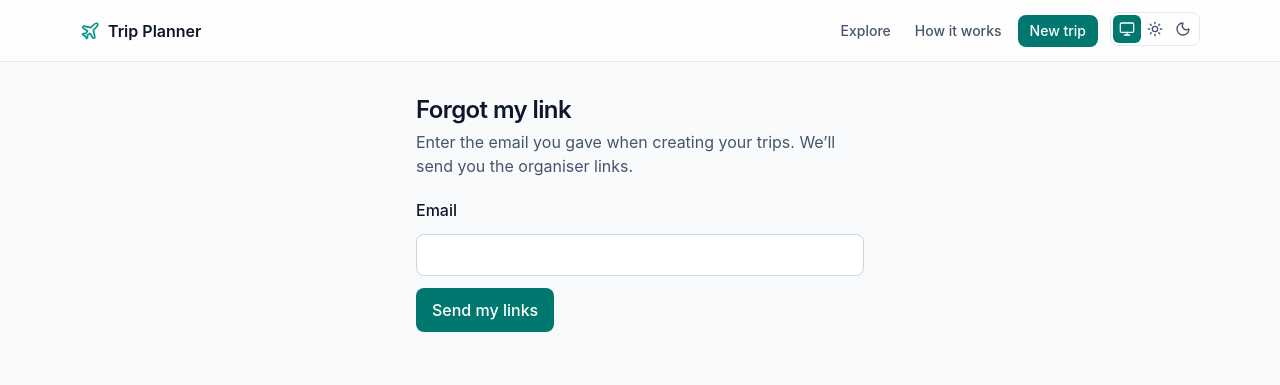
RecoverPage (F10, AC12.4–12.5) › validates the email and reports rate limits
In the field labelled "Email": (640, 255) [416,234,864,276], type "nope"
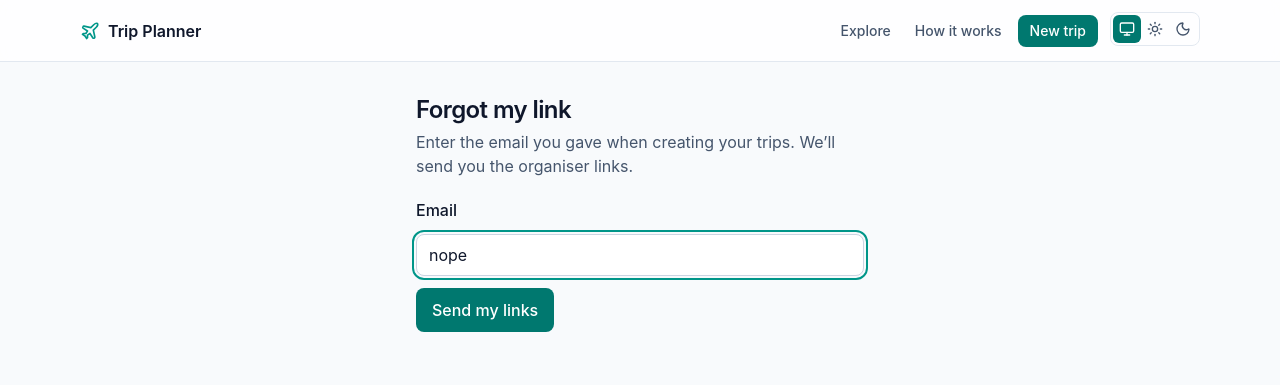
Click the button "Send my links": (485, 310) [416,288,554,332]
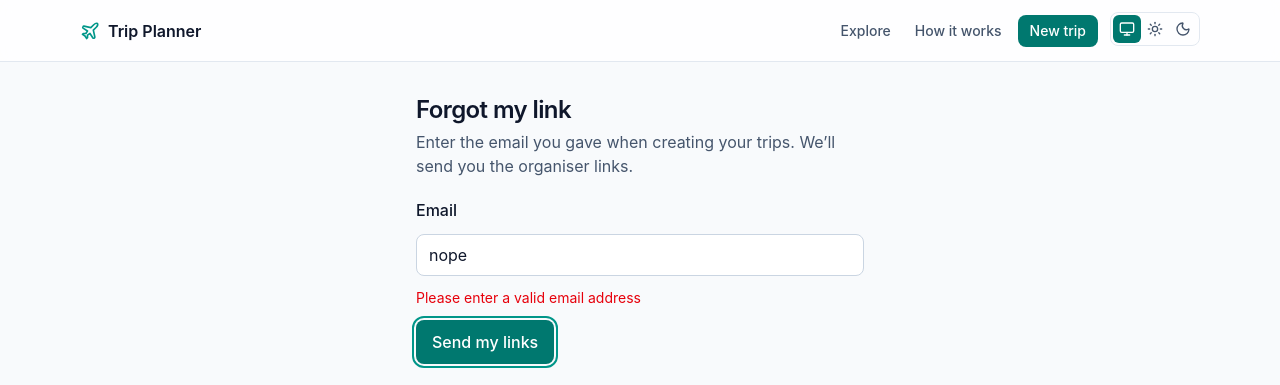
Check: the text "Please enter a valid email address" is shown, box [416,289,641,306]
Replace the text in the field labelled "Email" with "me@example.com": (640, 255) [416,234,864,276]
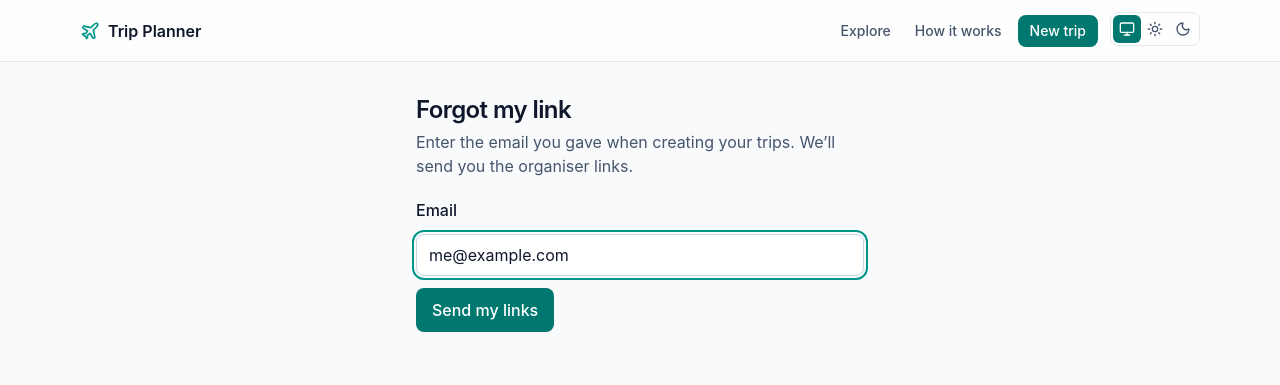
Click the button "Send my links": (485, 310) [416,288,554,332]
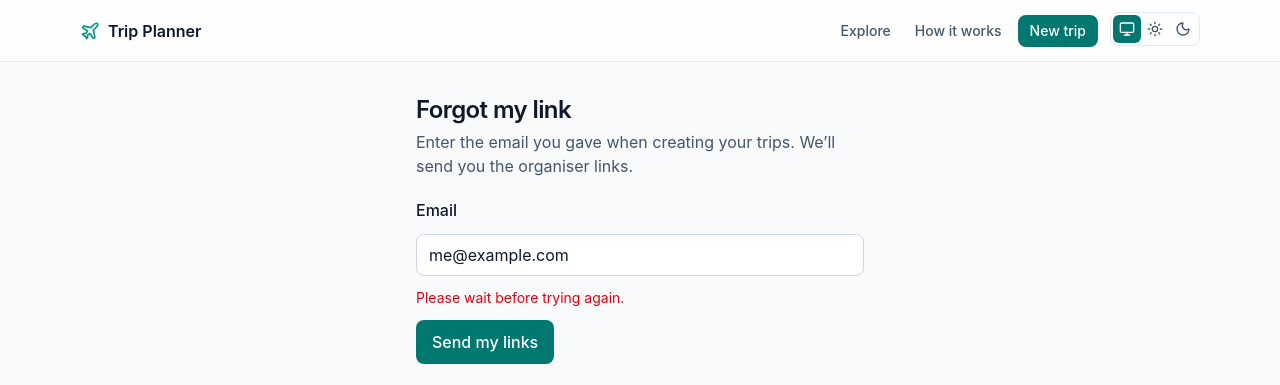
Check: the text "Please wait before trying again." is shown, box [416,289,624,306]
